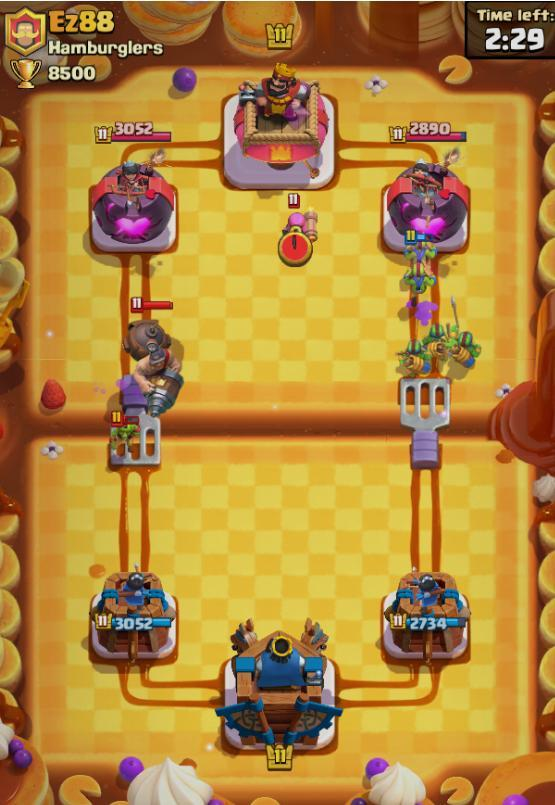EFirecrack: (277, 212, 317, 267)
EGoblin: (109, 410, 144, 467)
EKingTower: (223, 64, 335, 190)
EMightyMiner: (123, 320, 183, 416)
EnemyPrincessTower: (382, 160, 469, 253), (90, 161, 175, 253)
OGoblin: (400, 259, 437, 303), (403, 231, 439, 273)
OSpearGoblin: (420, 317, 461, 371), (446, 324, 480, 380), (396, 337, 432, 378)
OwnKingTower: (216, 619, 341, 750)
OwnPrincessTower: (382, 570, 469, 661), (89, 570, 175, 662)
